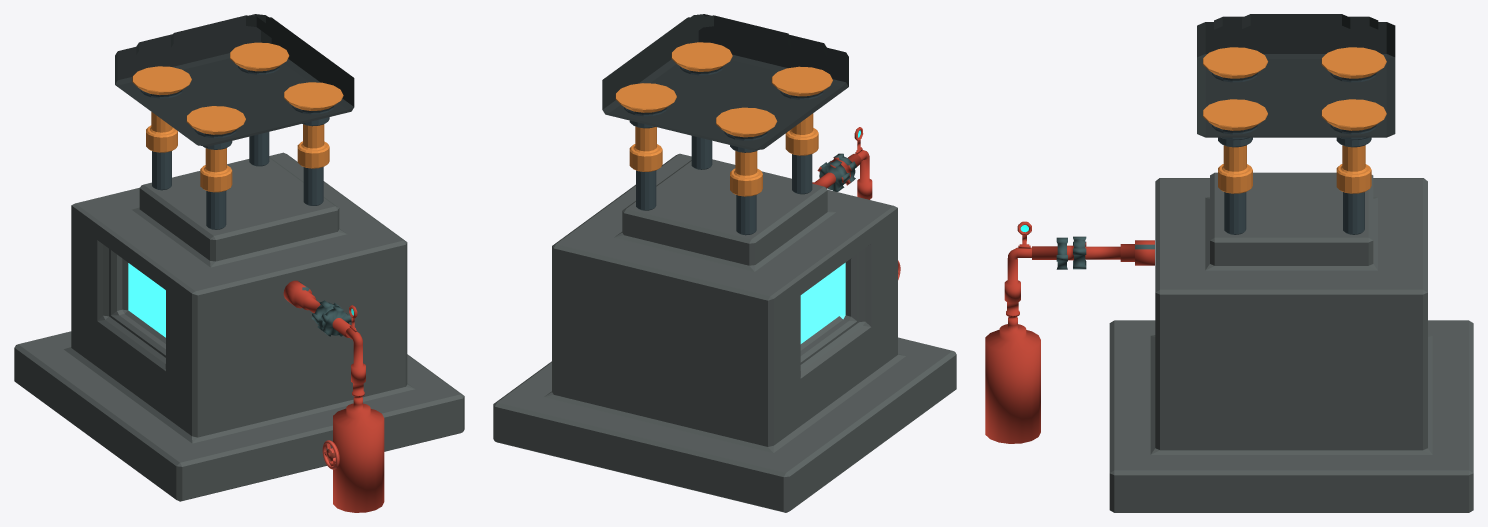
File: machine1.fbx
The picture shows the model from 3 angles, left to right: view 1: azimuth 30°, elevation 25°; view 2: azimuth 150°, elevation 25°; view 3: azimuth 270°, elevation 25°; orthographic projection. The views are drawn at different scales.
Visible parts, largest first — view 1: Cube.004; view 2: Cube.004; view 3: Cube.004.
Boxes of the visible parts, x1,y1,x2,y2 form: Cube.004: [14, 14, 464, 512]; Cube.004: [493, 14, 956, 512]; Cube.004: [985, 14, 1473, 512].
Bounding box in the file's own units: 788 × 958 × 1057.
